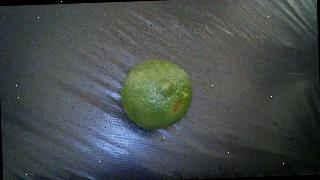DESECHO: (120, 58, 194, 130)
